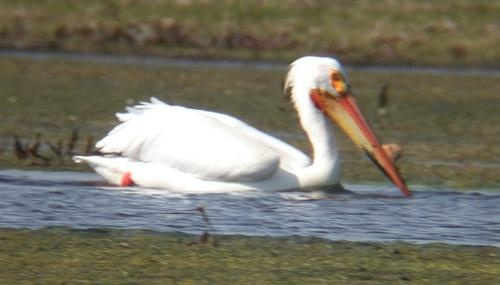bird: (74, 54, 422, 208)
